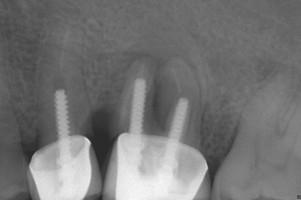Dental Caries: (122, 34, 196, 134)
Furcation Involvement: (249, 55, 301, 102)
